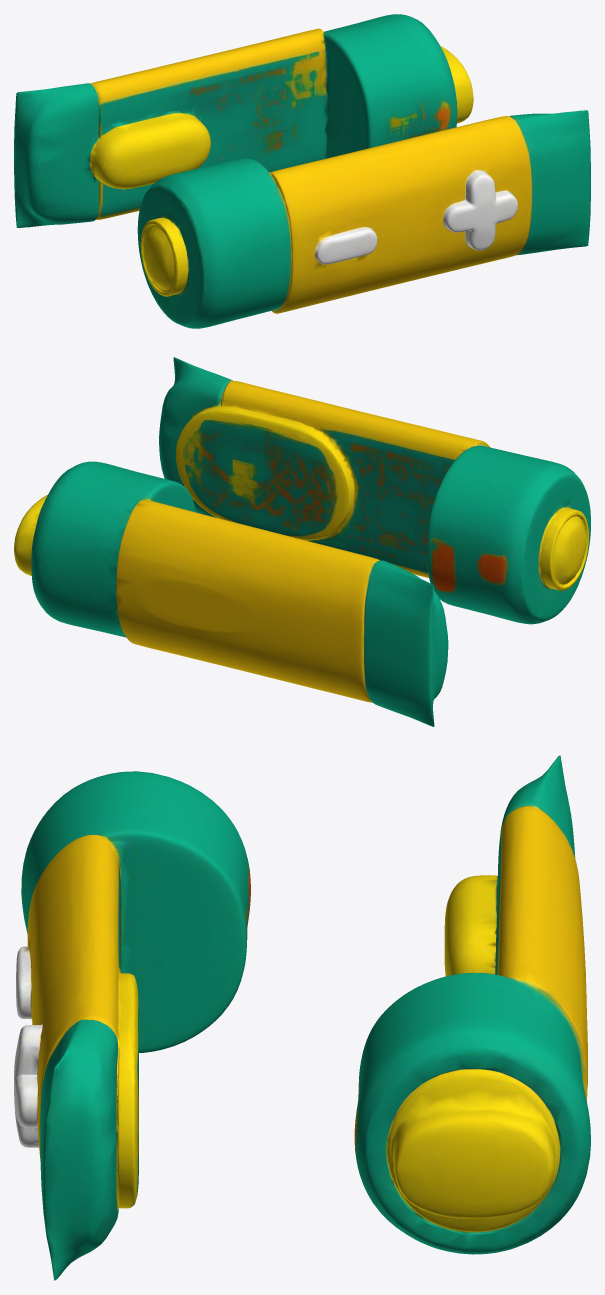
File: battery.glb
The picture shows the model from 3 angles, top to bottom: view 1: azimuth 30°, elevation 25°; view 2: azimuth 150°, elevation 25°; view 3: azimuth 270°, elevation 25°; orthographic projection. The views are drawn at different scales.
Parts seen in each view (by area): view 1: tripo_node_5264ce42-ce9e-4627-b35d-c564b5672c56; view 2: tripo_node_5264ce42-ce9e-4627-b35d-c564b5672c56; view 3: tripo_node_5264ce42-ce9e-4627-b35d-c564b5672c56.
Part boxes in pixels (<box>): tripo_node_5264ce42-ce9e-4627-b35d-c564b5672c56: <box>14,14,590,328</box>; tripo_node_5264ce42-ce9e-4627-b35d-c564b5672c56: <box>14,357,590,726</box>; tripo_node_5264ce42-ce9e-4627-b35d-c564b5672c56: <box>14,755,590,1280</box>.
Size of the model in its own units: 0.9796 by 0.328 by 0.758.
Materials: 1 (1 with a texture image).
